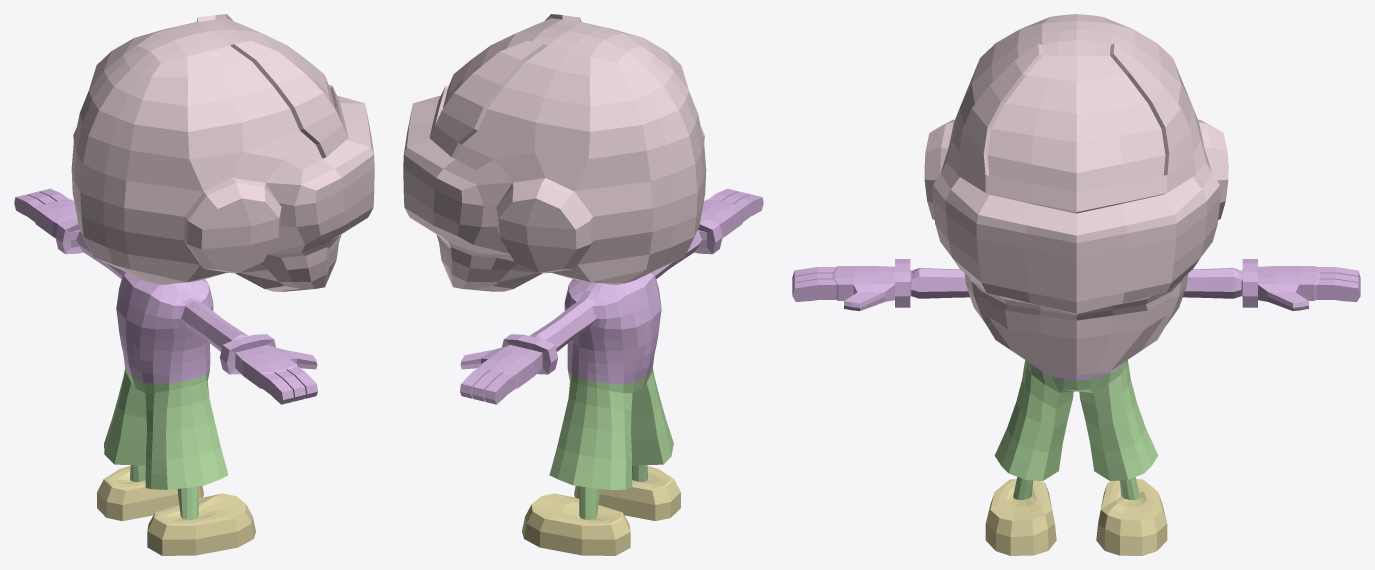
Rendered from Characterse.fbx.
The picture shows the model from 3 angles, left to right: view 1: azimuth 30°, elevation 25°; view 2: azimuth 150°, elevation 25°; view 3: azimuth 270°, elevation 25°; orthographic projection. The views are drawn at different scales.
Visible parts, largest first — view 1: character; view 2: character; view 3: character.
Part boxes in pixels (x1,y1,x2,y2): character: (14, 14, 374, 555); character: (403, 14, 763, 555); character: (792, 14, 1360, 555).
Bounding box in the file's own units: 123 × 198 × 200.
